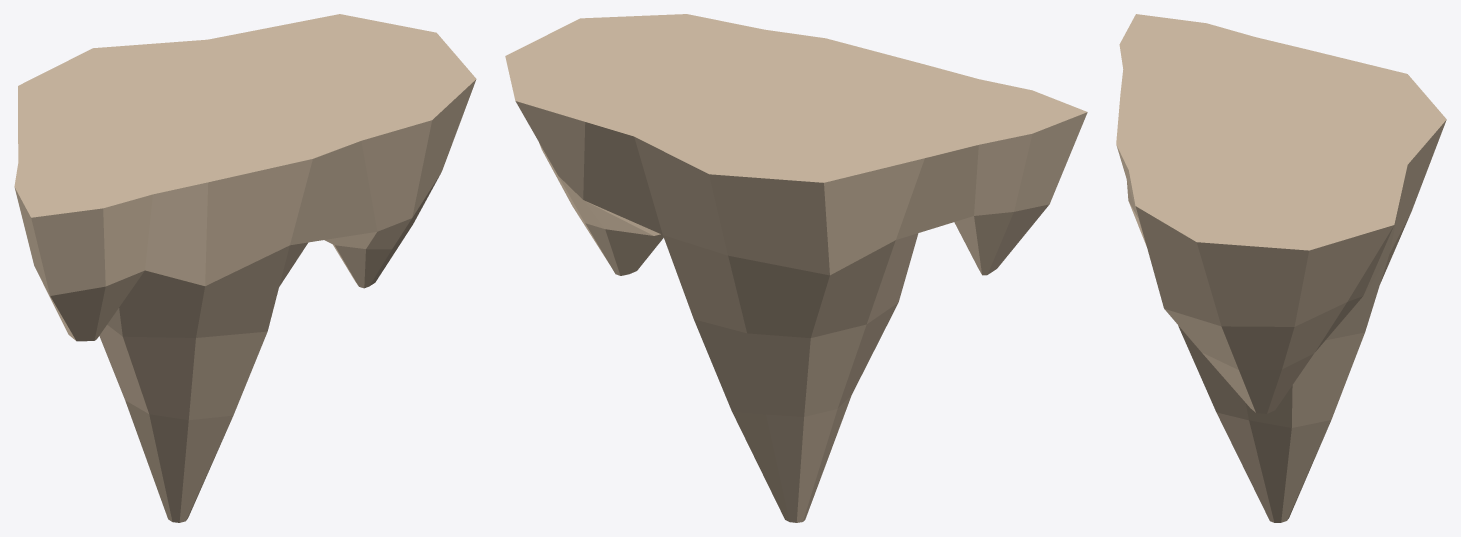
Rendered from Stalagtite_4.fbx.
3 renders of one model, left to right at view 1: azimuth 30°, elevation 25°; view 2: azimuth 150°, elevation 25°; view 3: azimuth 270°, elevation 25°, orthographic.
Parts seen in each view (by area): view 1: Stalagtite_4; view 2: Stalagtite_4; view 3: Stalagtite_4.
Boxes of the visible parts, x1=… form: Stalagtite_4: x1=14, y1=14, x2=476, y2=522; Stalagtite_4: x1=505, y1=14, x2=1087, y2=522; Stalagtite_4: x1=1116, y1=14, x2=1446, y2=522.
Size of the model in its own units: 324 by 256 by 191.
